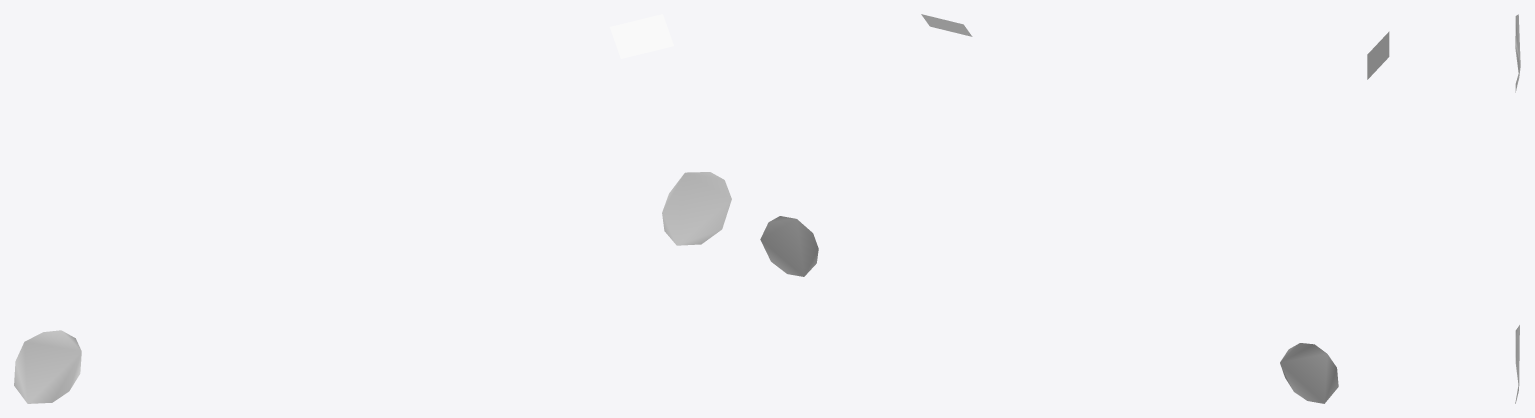
The picture shows the model from 3 angles, left to right: view 1: azimuth 30°, elevation 25°; view 2: azimuth 150°, elevation 25°; view 3: azimuth 270°, elevation 25°; orthographic projection. The views are drawn at different scales.
Bounding box in the file's own units: 1.63 × 0.6539 × 0.3054.
1 material, 1 textured.
